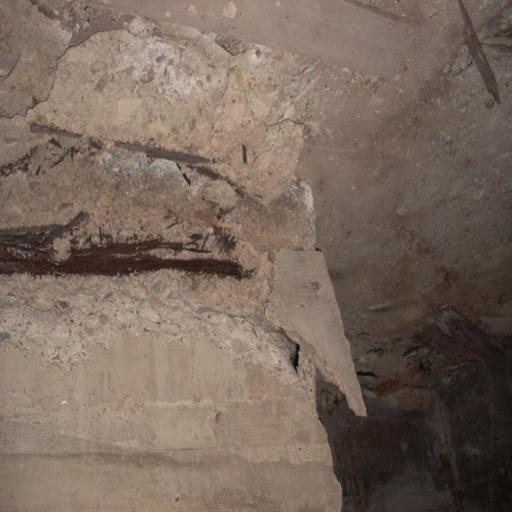spalling: (1, 137, 304, 381)
